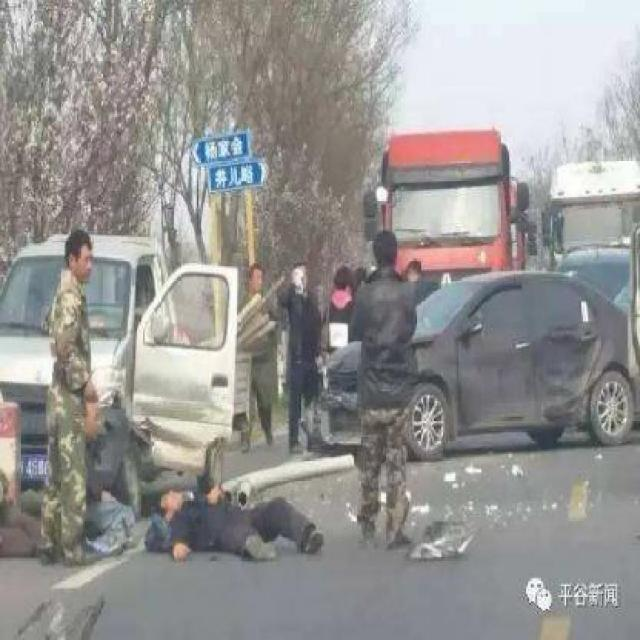fall: (150, 477, 330, 569)
